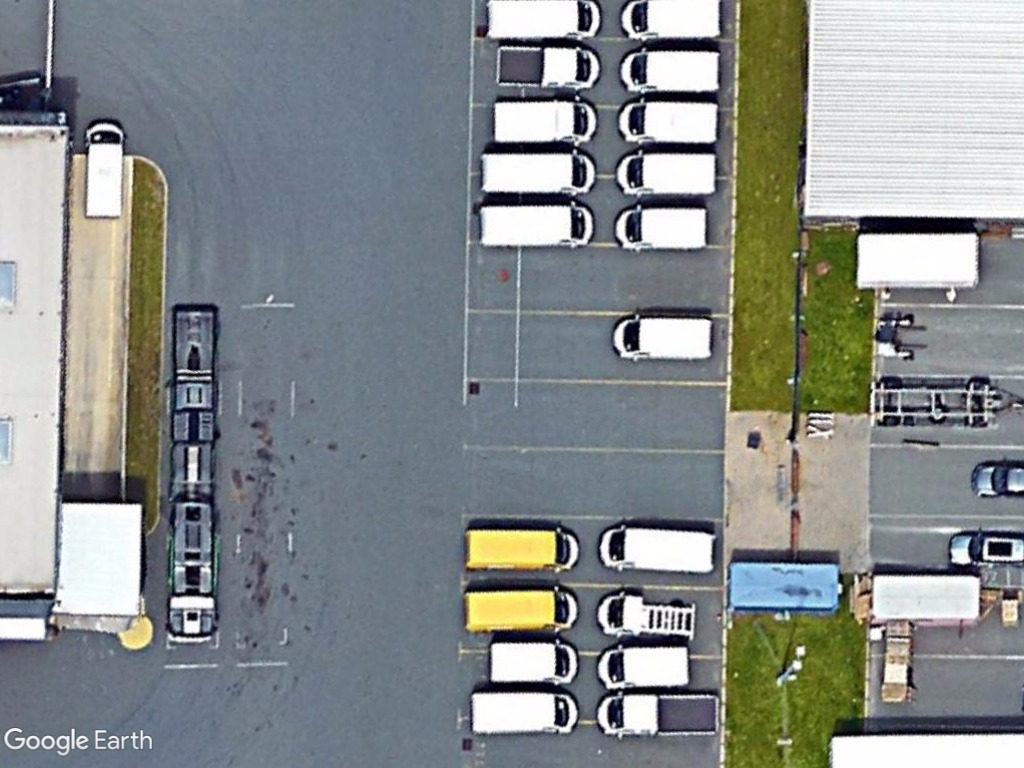car: (945, 527, 1024, 573)
others: (594, 692, 726, 741), (489, 40, 606, 93)
van: (468, 195, 600, 254), (597, 519, 723, 579), (460, 519, 587, 576), (457, 582, 585, 638), (474, 144, 600, 200), (463, 684, 585, 740), (611, 42, 729, 99), (606, 308, 718, 366), (607, 200, 718, 258), (78, 115, 135, 224), (489, 94, 601, 148), (611, 94, 722, 148), (610, 148, 721, 200), (482, 632, 584, 687), (477, 0, 606, 42), (616, 0, 727, 48), (594, 640, 695, 692)
